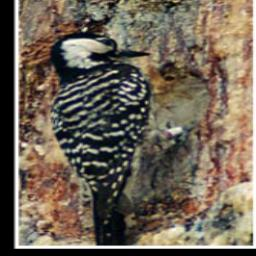Woodpecker: (41, 25, 204, 248)
